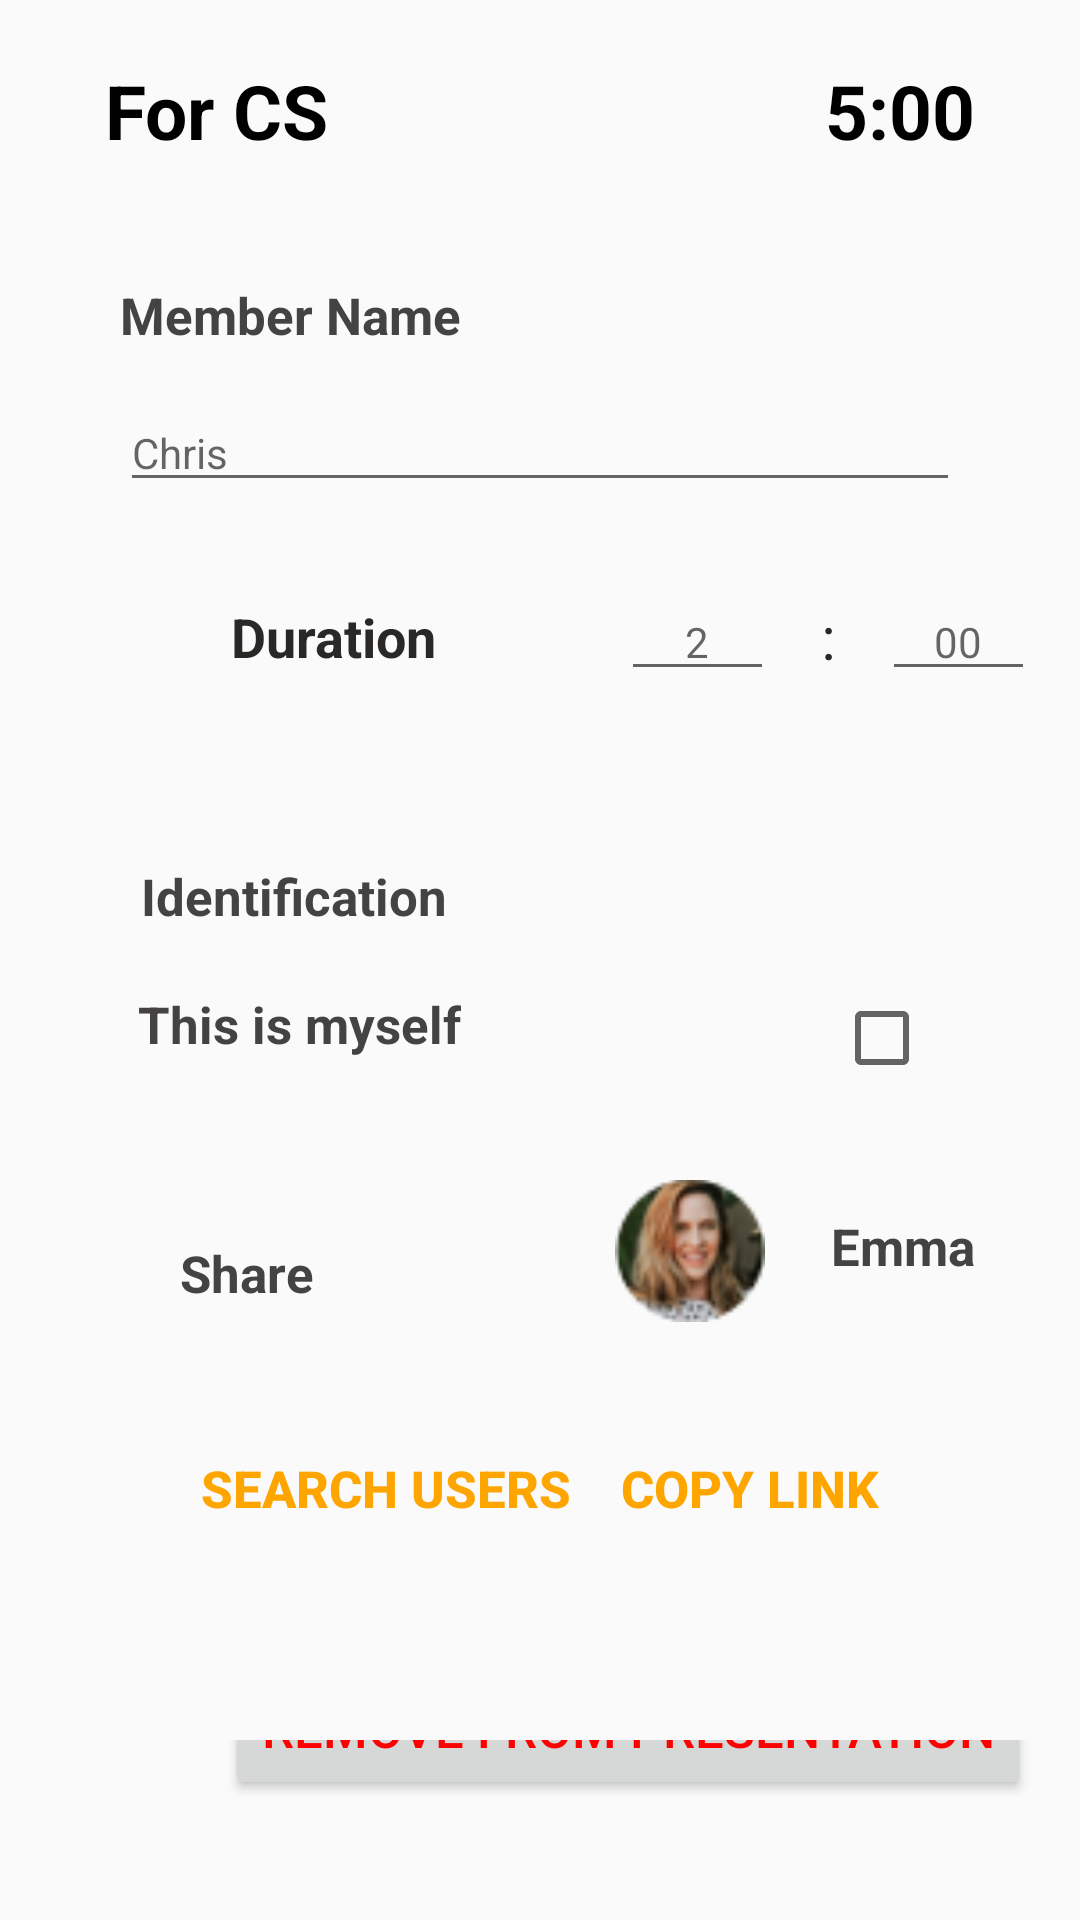

Icon bounding boxes for this 1080*1920 phone screenshot, format (x1, y1, x2, y2):
profile: (615, 1180, 765, 1322)
